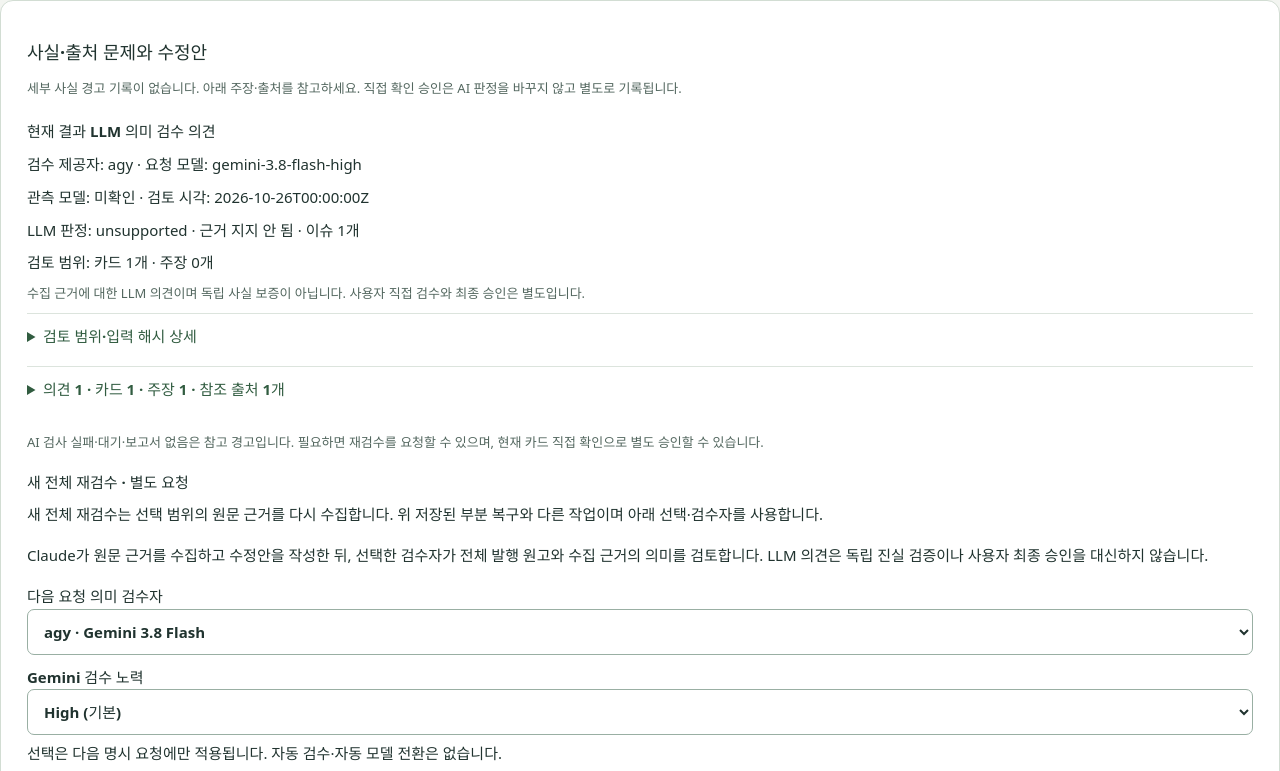
Test: 보고서의 요청·관측 모델과 문제 위치·근거·제안을 LLM 의견으로 표시한다
The width and height of the screenshot is (1280, 771).
Expected: the heading "현재 결과 LLM 의미 검수 의견" is shown, [27,121,216,141]
Expected: the text "검수 제공자: agy · 요청 모델: gemini-3.8-flash-high" is shown, [27,154,362,174]
Click the heading "의견 1 · 카드 1 · 주장 1 · 참조 출처 1개" at point(164, 389), box [43,379,285,399]
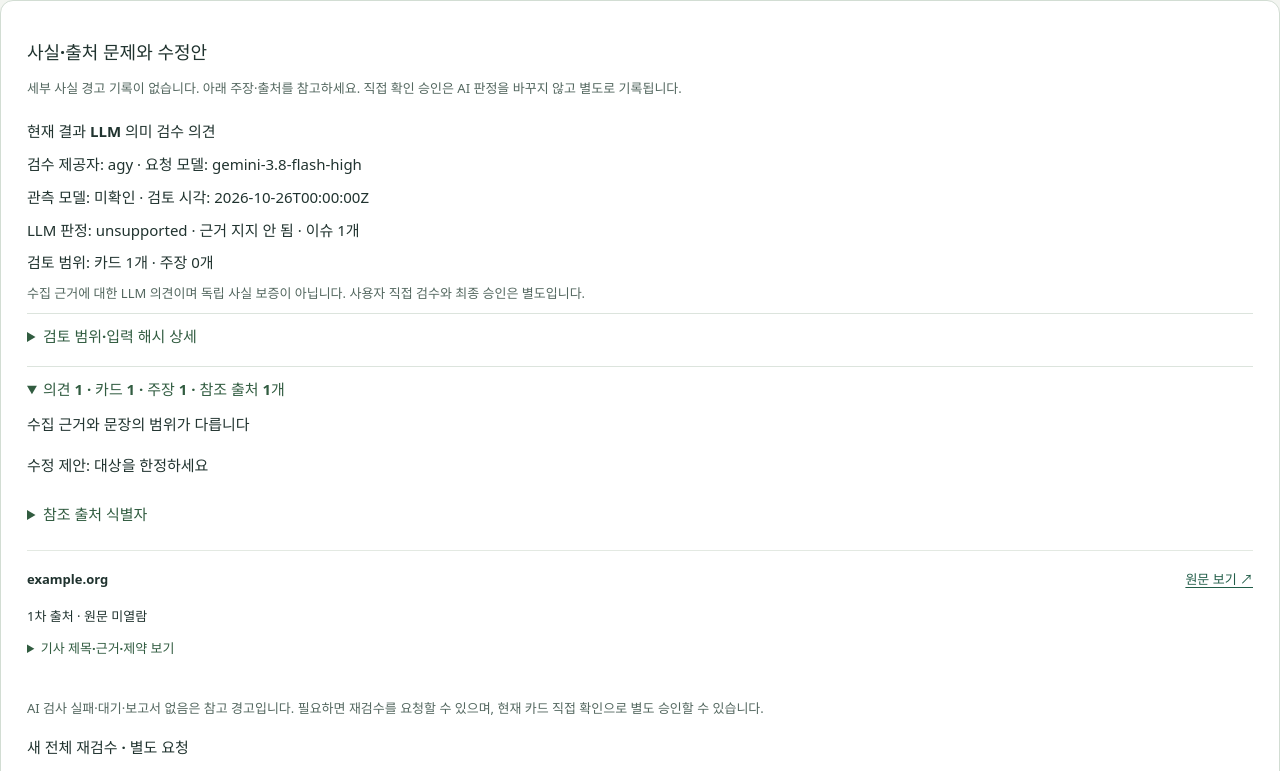
Now the text "수집 근거와 문장의 범위가 다릅니다" is shown, box [27,414,250,434]
Now the text "수정 제안: 대상을 한정하세요" is shown, box [27,455,208,475]
